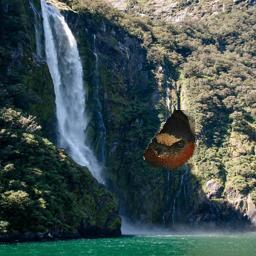Swallow: (143, 110, 195, 170)
